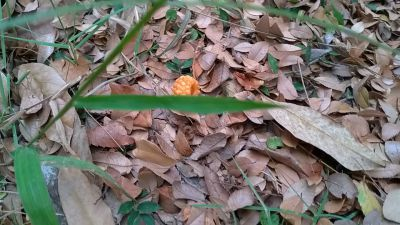eggs: (169, 72, 203, 113)
